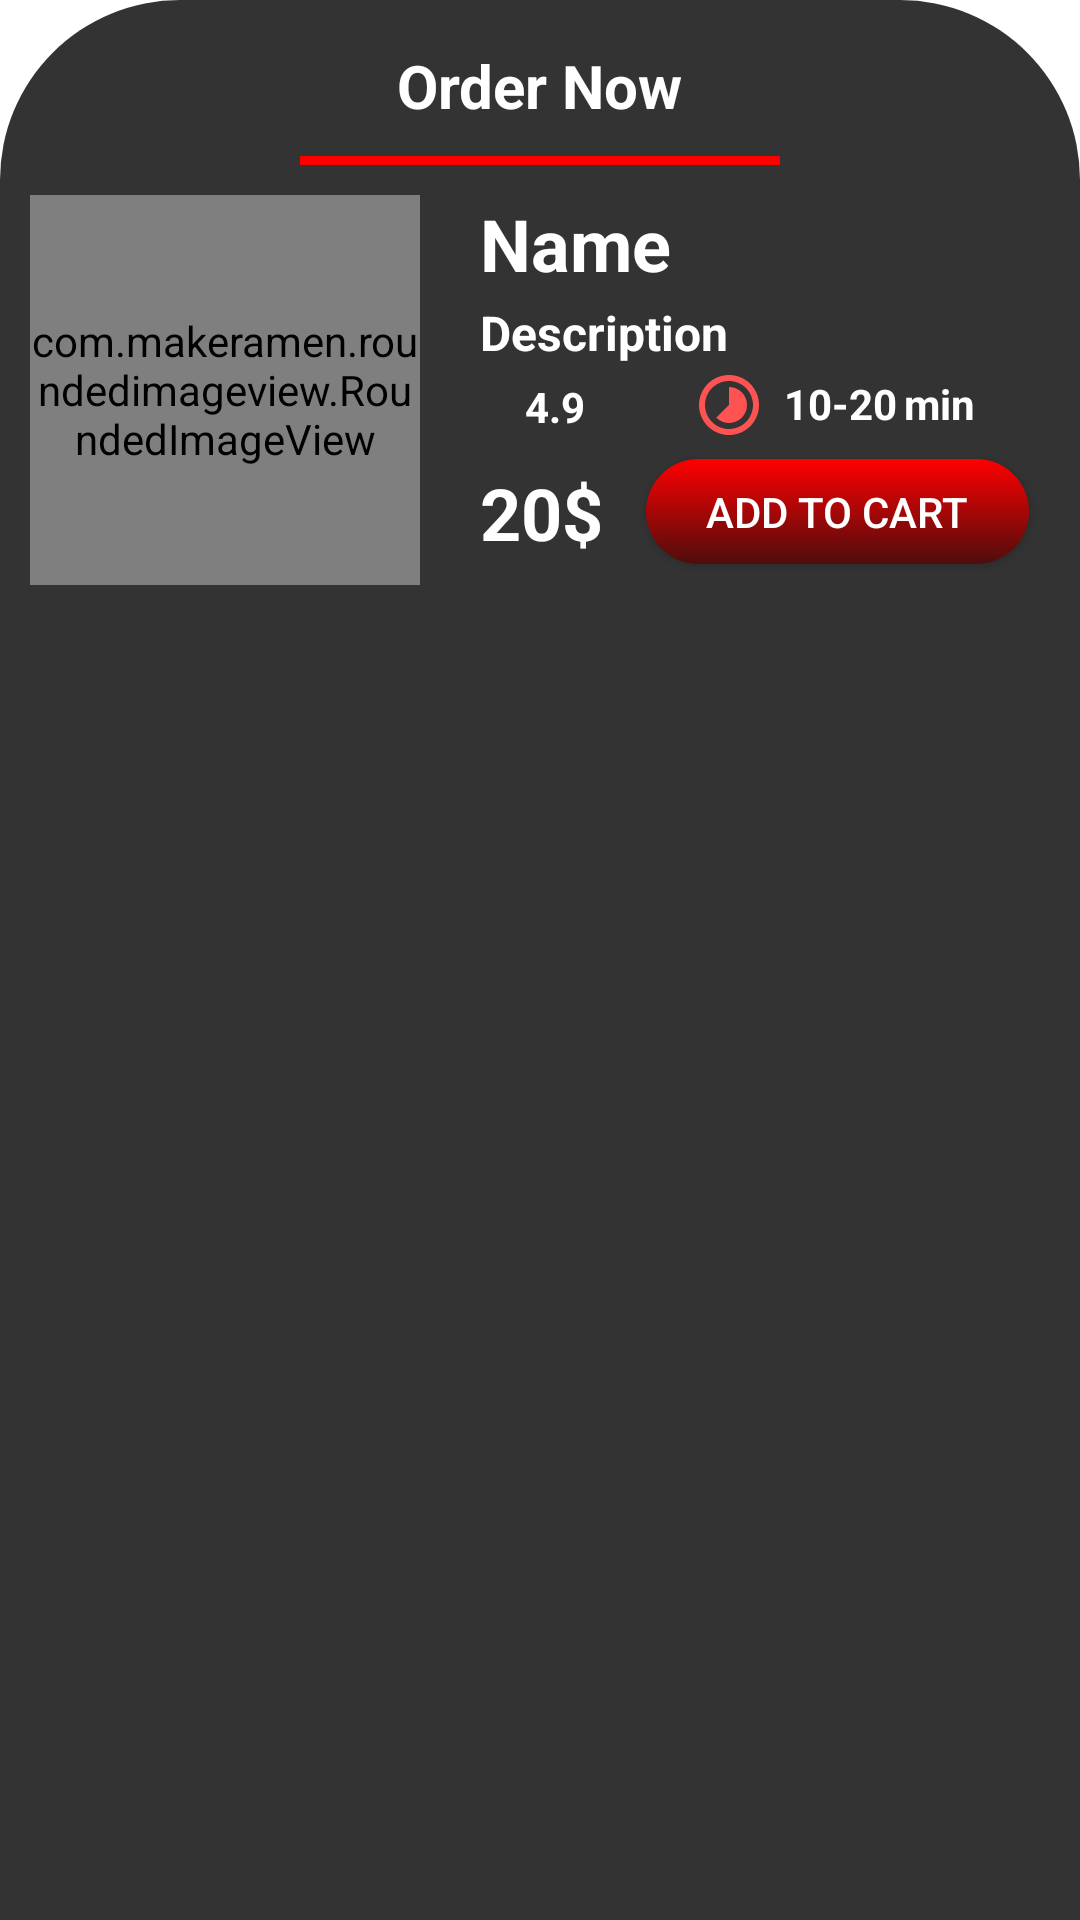

Screen size 1080×1920. Icon name, then its center in pixels as point (x, y):
timelapse: point (729, 405)
